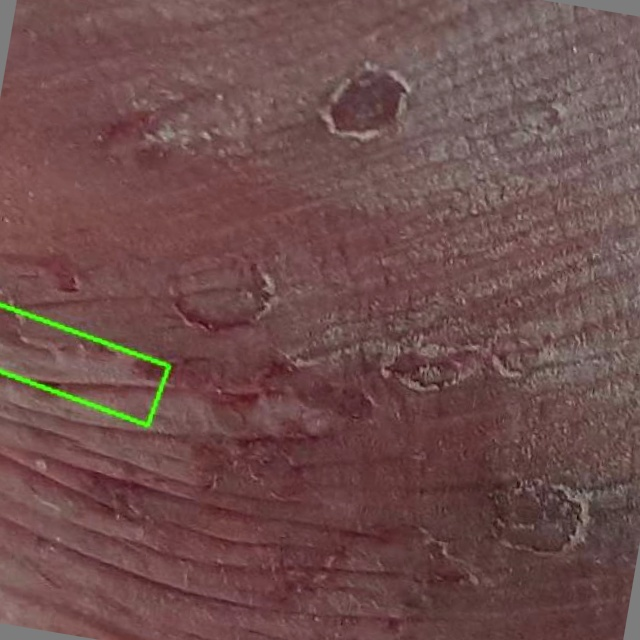Contact Dermatitis: (0, 303, 170, 426)
